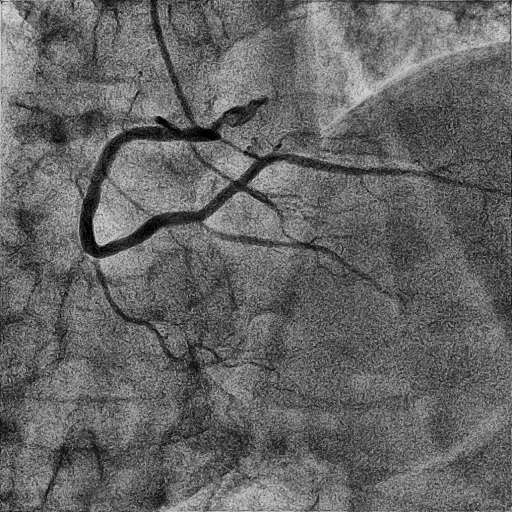pborca: (195, 154, 427, 221)
pda: (194, 221, 408, 307)
rca: (80, 126, 199, 258)
